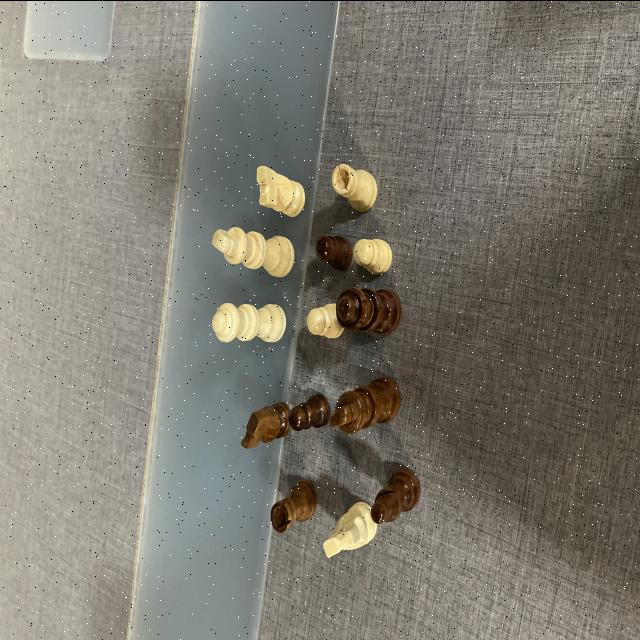Black-Bishop: (372, 468, 419, 522)
Black-King: (330, 377, 398, 431)
Black-Knight: (242, 401, 290, 446)
Black-Pawn: (287, 395, 329, 427), (316, 236, 350, 270)
Black-Queen: (336, 287, 400, 333)
Black-Rook: (270, 478, 318, 530)
White-King: (212, 226, 294, 276)
White-Knight: (322, 503, 378, 559), (254, 163, 305, 216)
White-Pawn: (351, 238, 393, 272), (308, 303, 344, 340)
White-Queen: (212, 302, 286, 343)
White-Rook: (331, 162, 377, 210)
